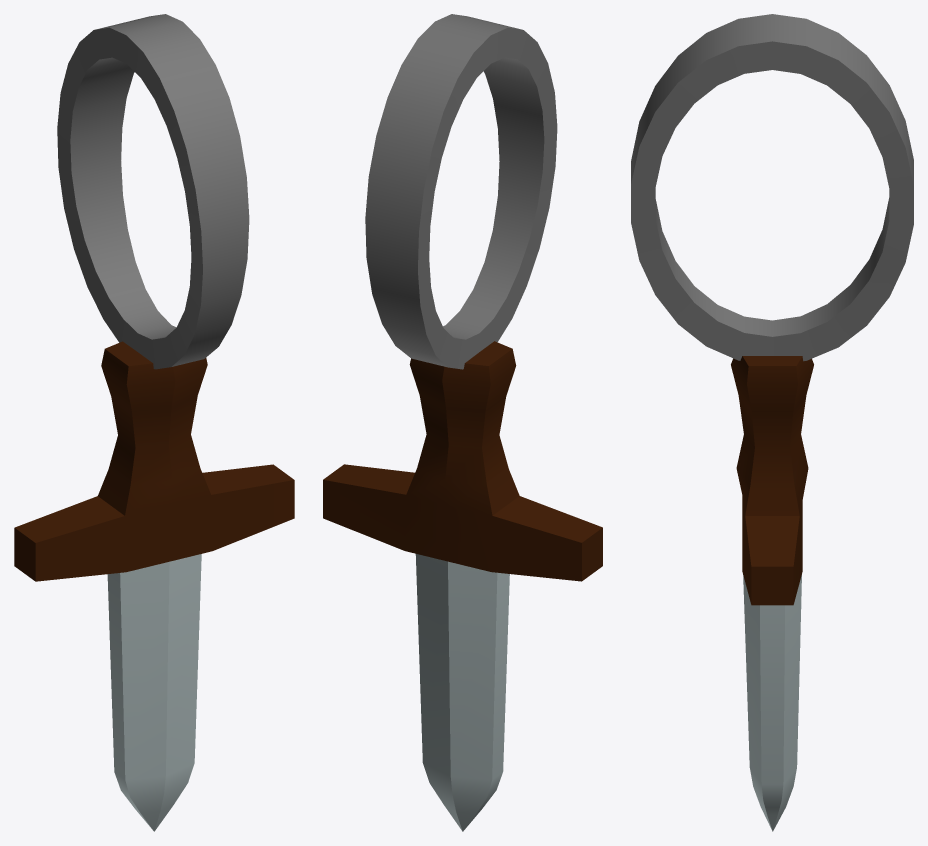
File: Small_Sword2.fbx
3 renders of one model, left to right at view 1: azimuth 30°, elevation 25°; view 2: azimuth 150°, elevation 25°; view 3: azimuth 270°, elevation 25°, orthographic.
Visible parts, largest first — view 1: Cube.002, Sword.001; view 2: Cube.002, Sword.001; view 3: Sword.001, Cube.002.
Part boxes in pixels (bbox=[...]): Cube.002: bbox=[14, 341, 294, 831]; Sword.001: bbox=[57, 14, 249, 369]; Cube.002: bbox=[323, 341, 602, 831]; Sword.001: bbox=[365, 14, 557, 369]; Sword.001: bbox=[631, 14, 913, 361]; Cube.002: bbox=[731, 356, 813, 831].
Size of the model in its own units: 14.54 by 43.13 by 13.74.
